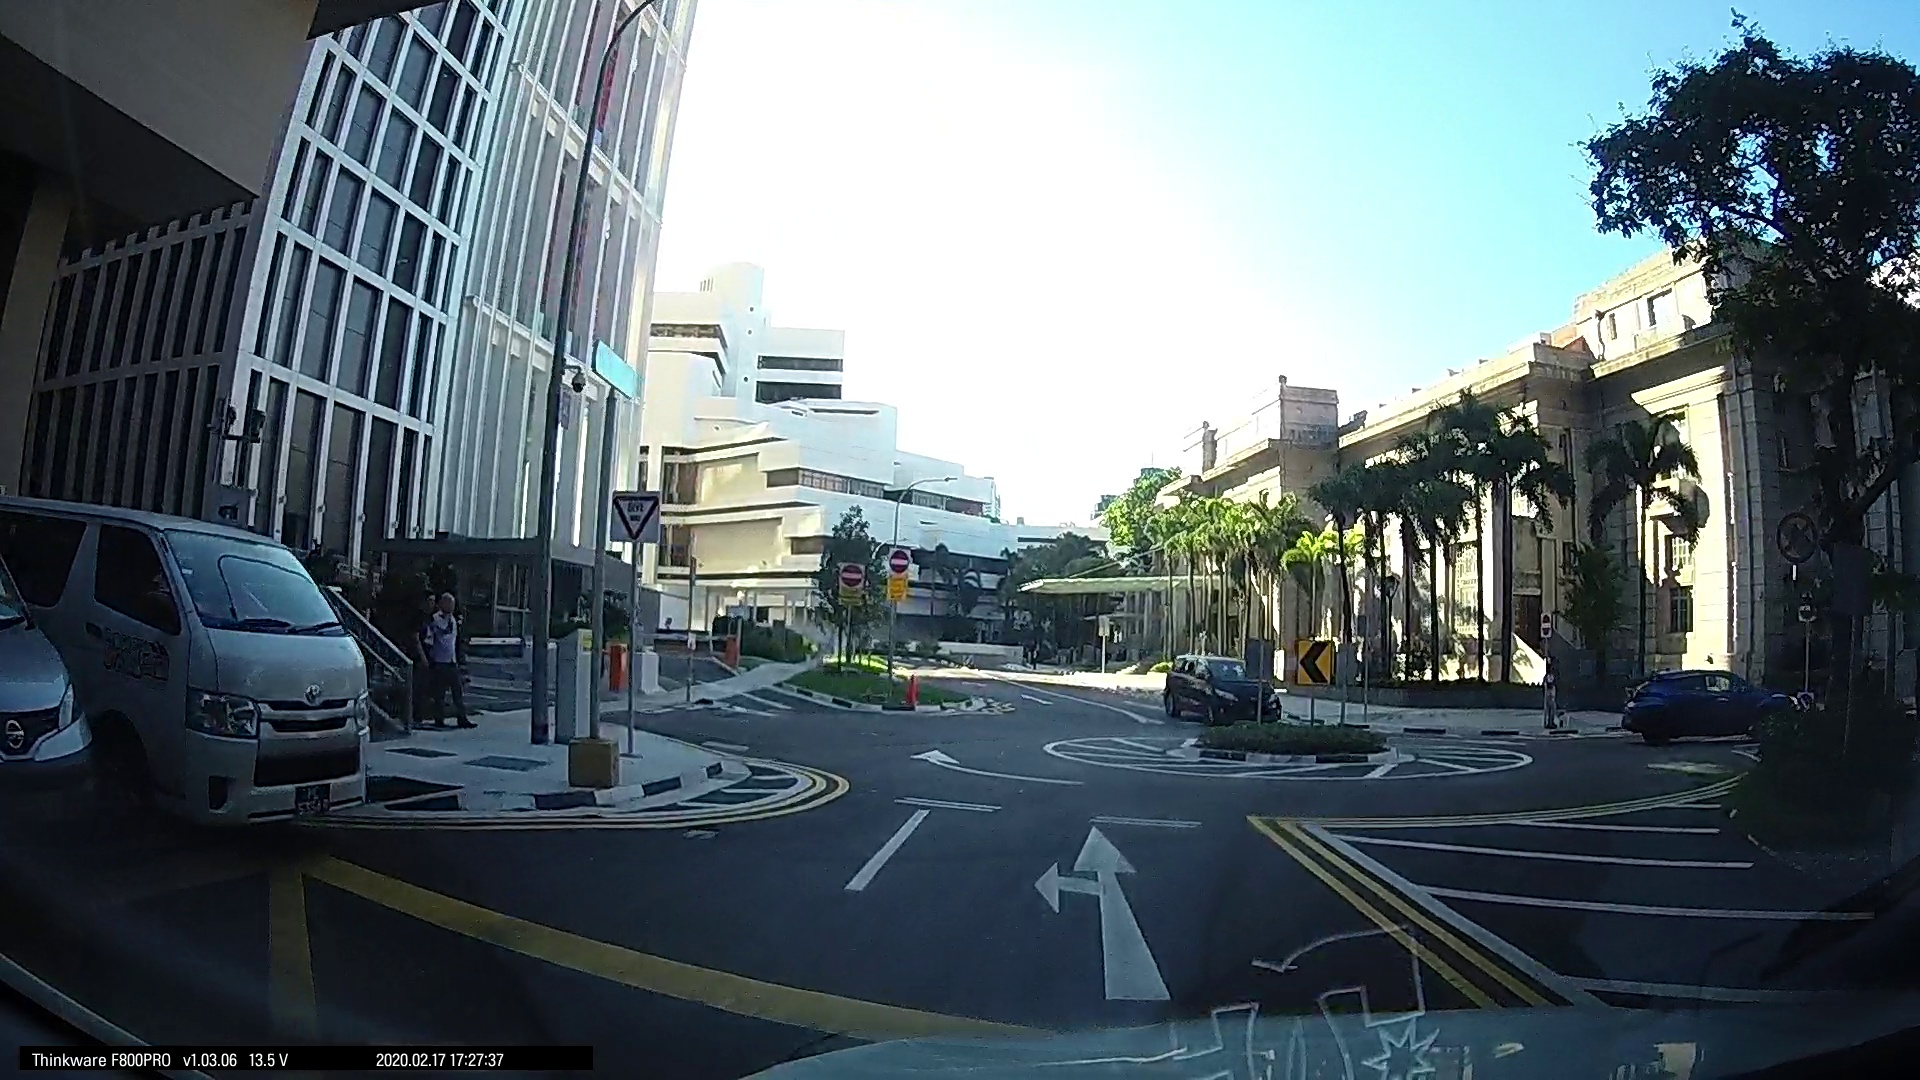Light Vehicle: (1, 495, 375, 851), (1617, 665, 1774, 740), (1156, 647, 1269, 724)
